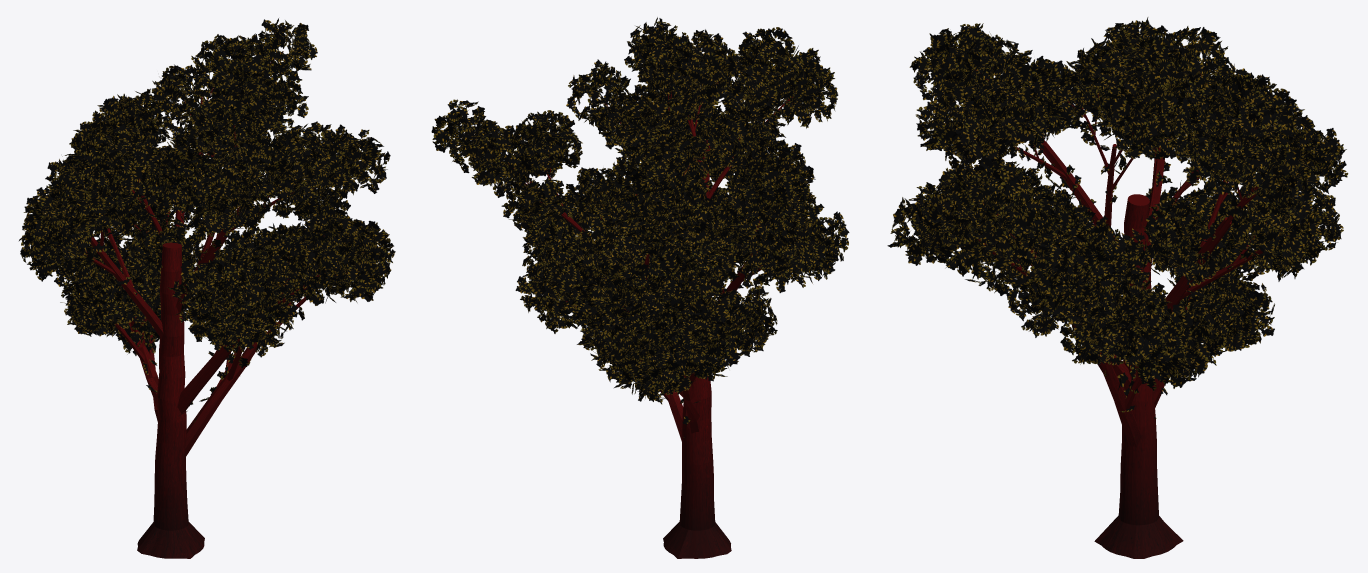
Rendered from broadleaf_giant_v03.glb.
3 views of the same model, side by side, from view 1: azimuth 30°, elevation 25°; view 2: azimuth 150°, elevation 25°; view 3: azimuth 270°, elevation 25° (orthographic). The views are drawn at different scales.
Parts seen in each view (by area): view 1: broadleaf_giant_v03; view 2: broadleaf_giant_v03; view 3: broadleaf_giant_v03.
Boxes of the visible parts, x1,y1,x2,y2 form: broadleaf_giant_v03: [19, 18, 395, 558]; broadleaf_giant_v03: [431, 17, 849, 558]; broadleaf_giant_v03: [887, 17, 1348, 558].
Size of the model in its own units: 34.72 by 42.94 by 35.01.
2 materials, 2 textured.
